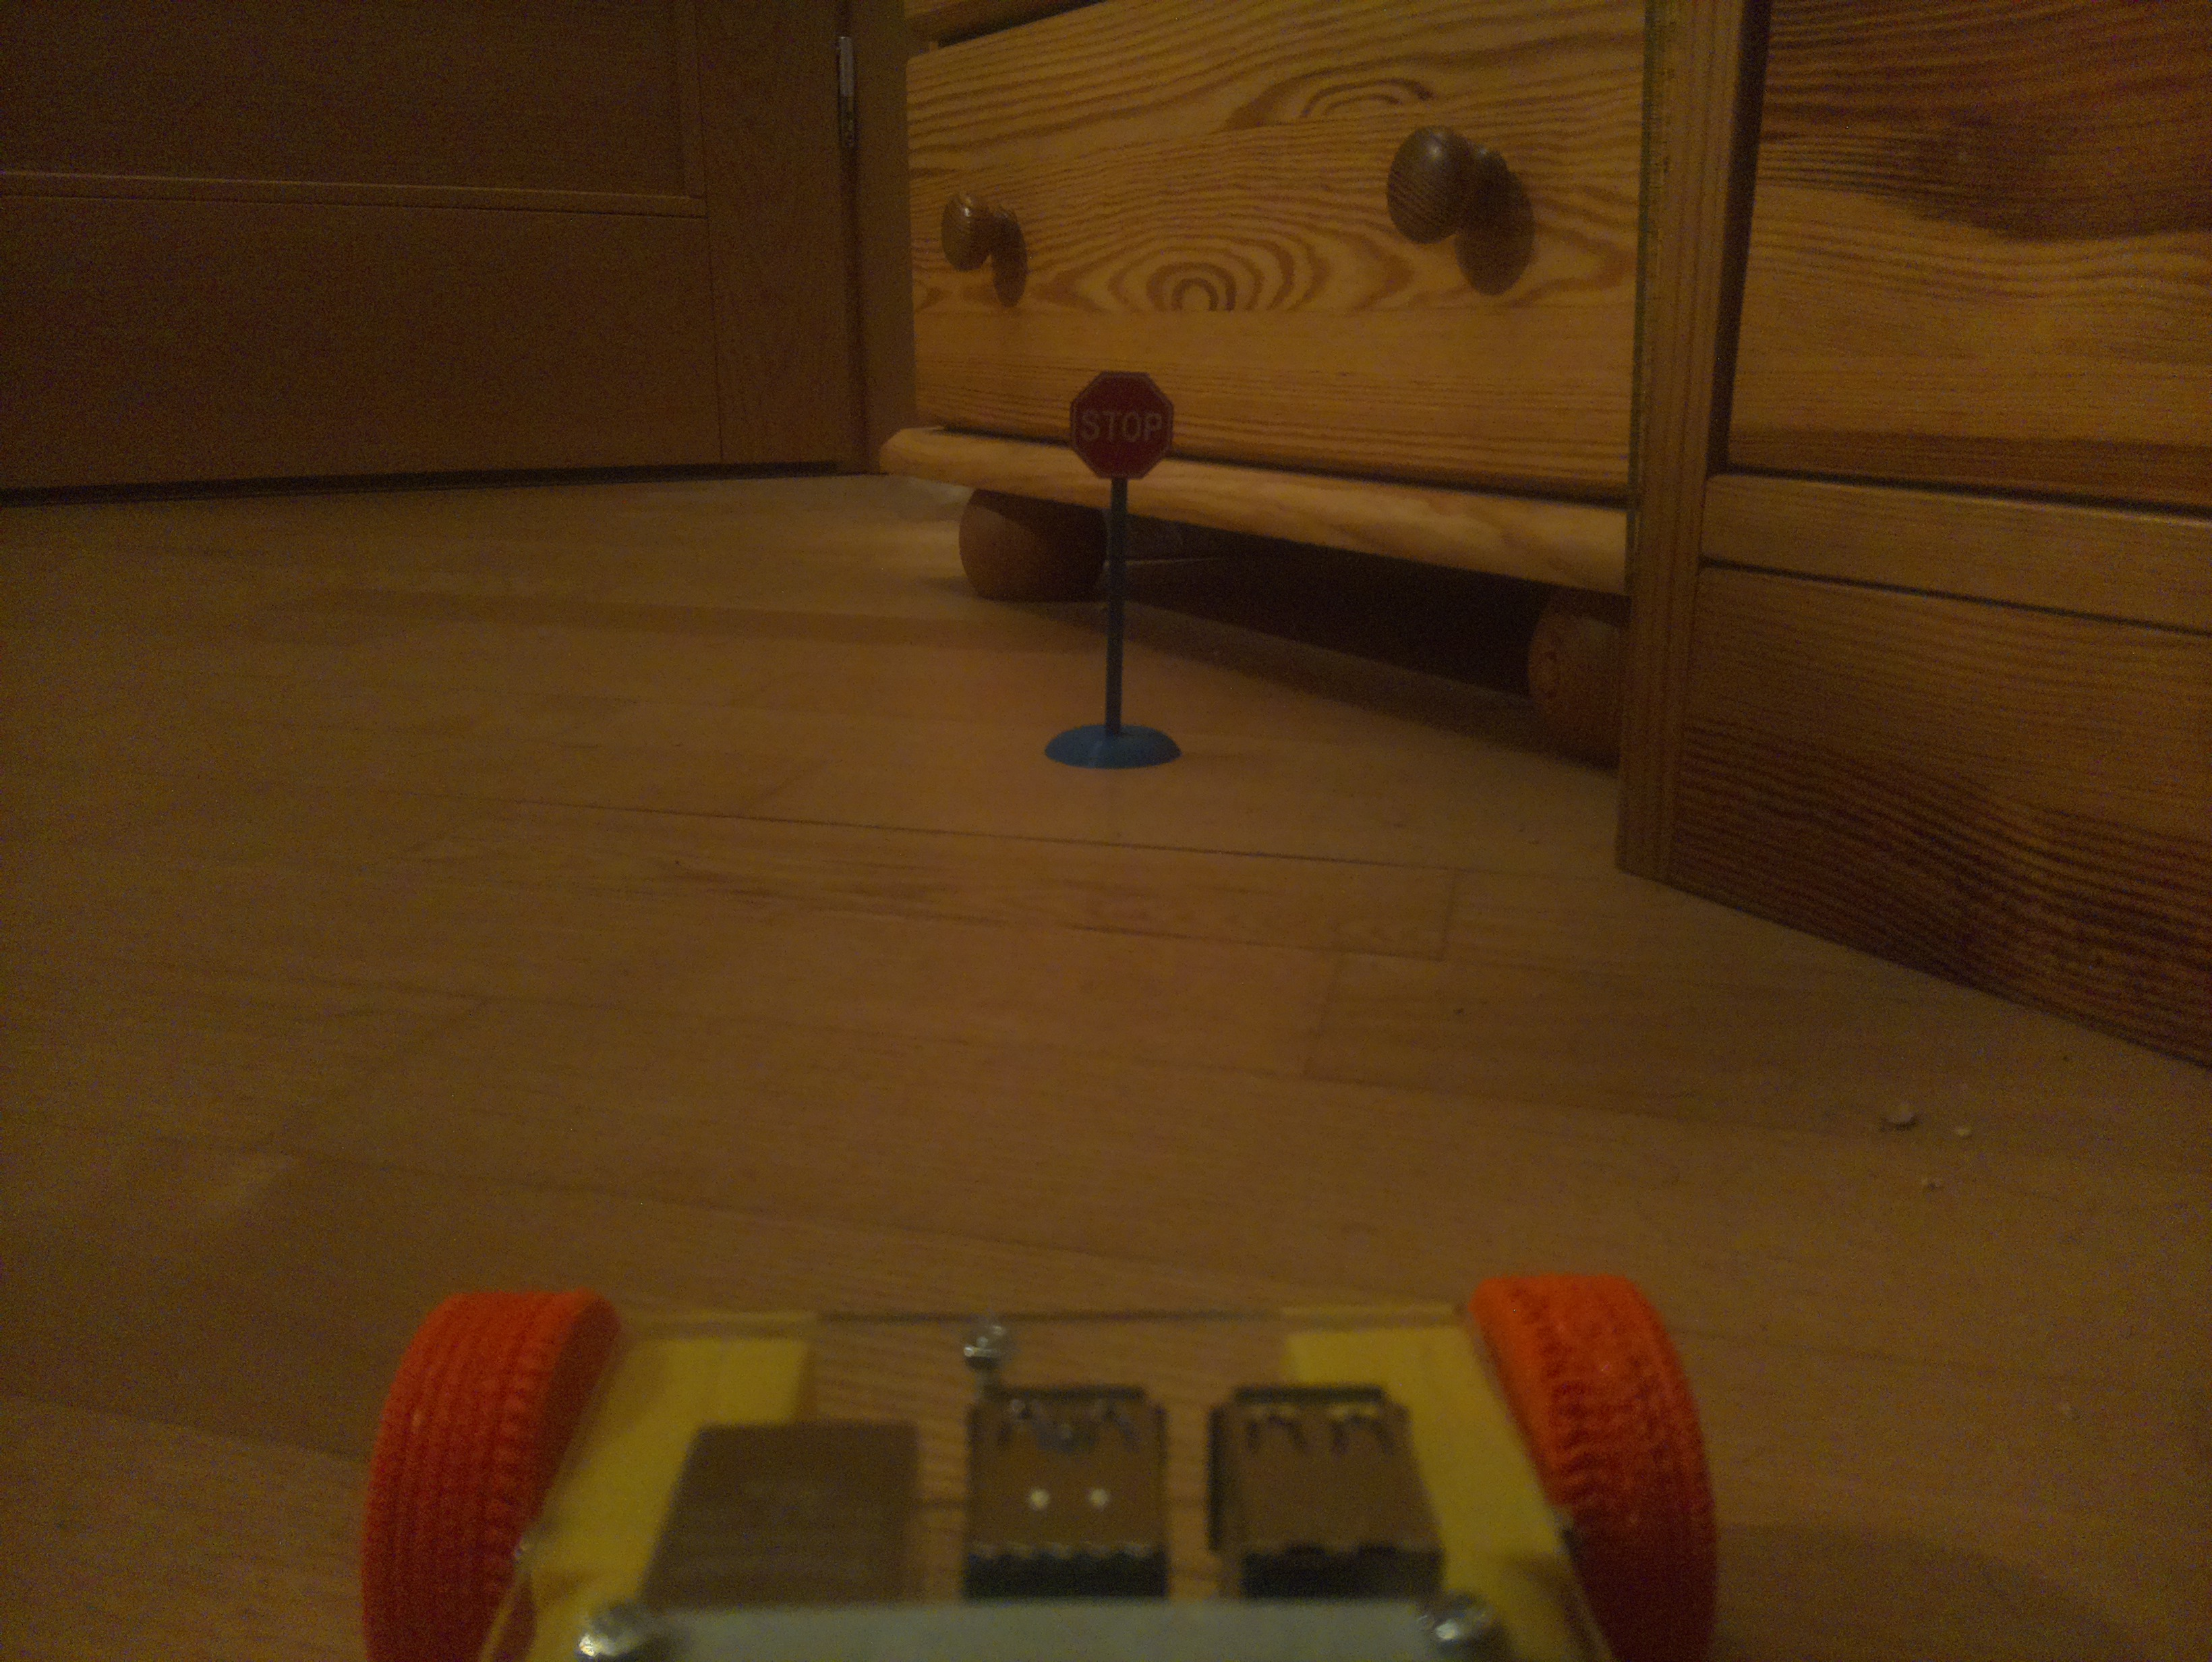stop: (1071, 372, 1173, 478)
